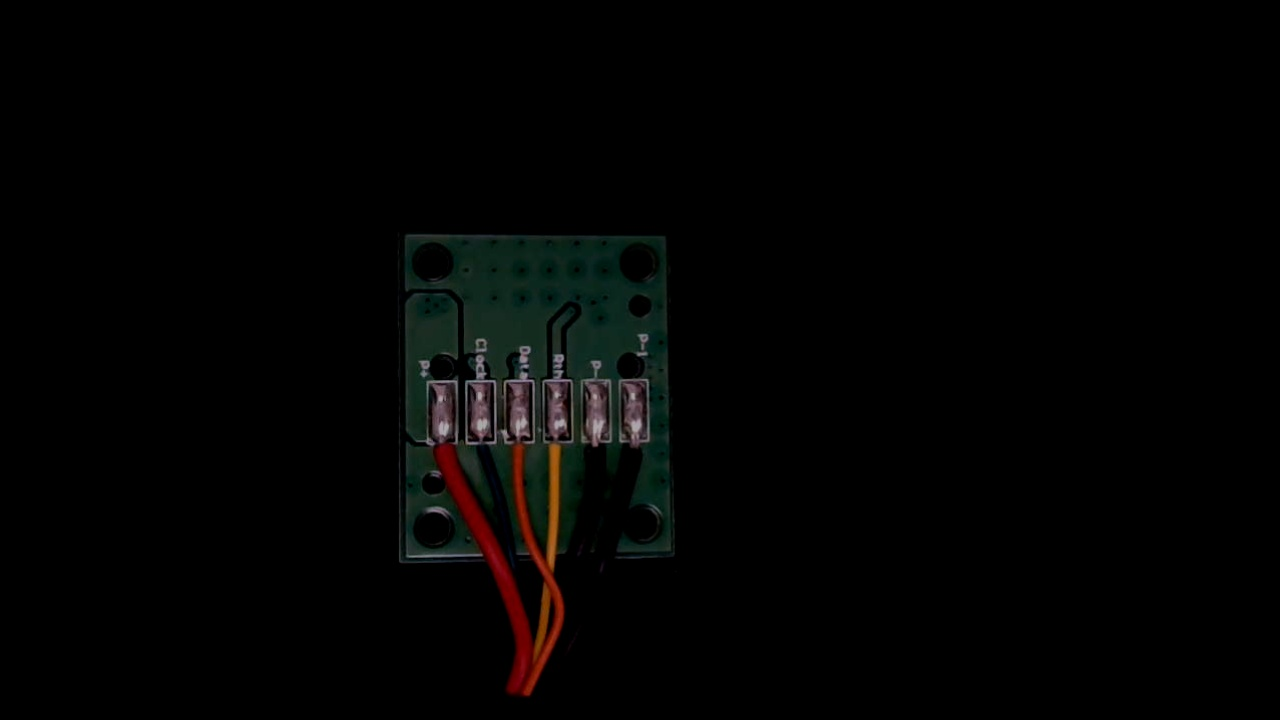Black: (580, 425, 614, 499)
Black1: (619, 425, 653, 492)
Green: (468, 425, 500, 488)
Orange: (502, 427, 535, 500)
Red: (424, 428, 458, 499)
Yellow: (540, 425, 574, 500)
